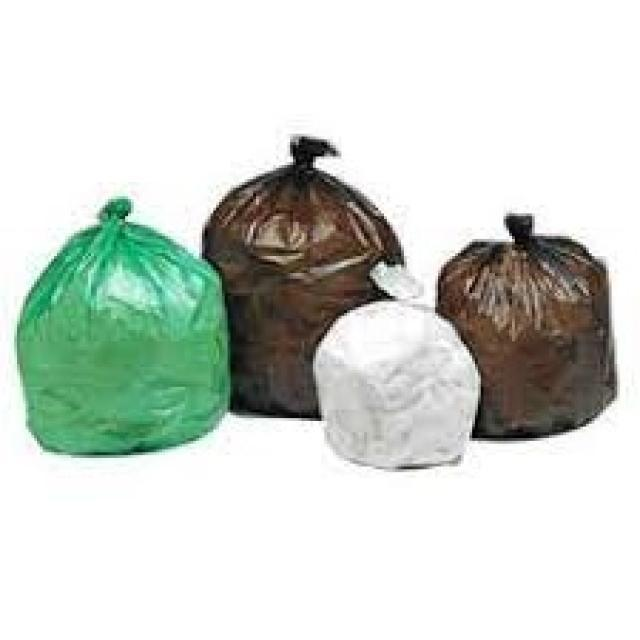Vinyl: (193, 134, 401, 422), (14, 193, 233, 461), (410, 213, 638, 452), (307, 267, 484, 478)
